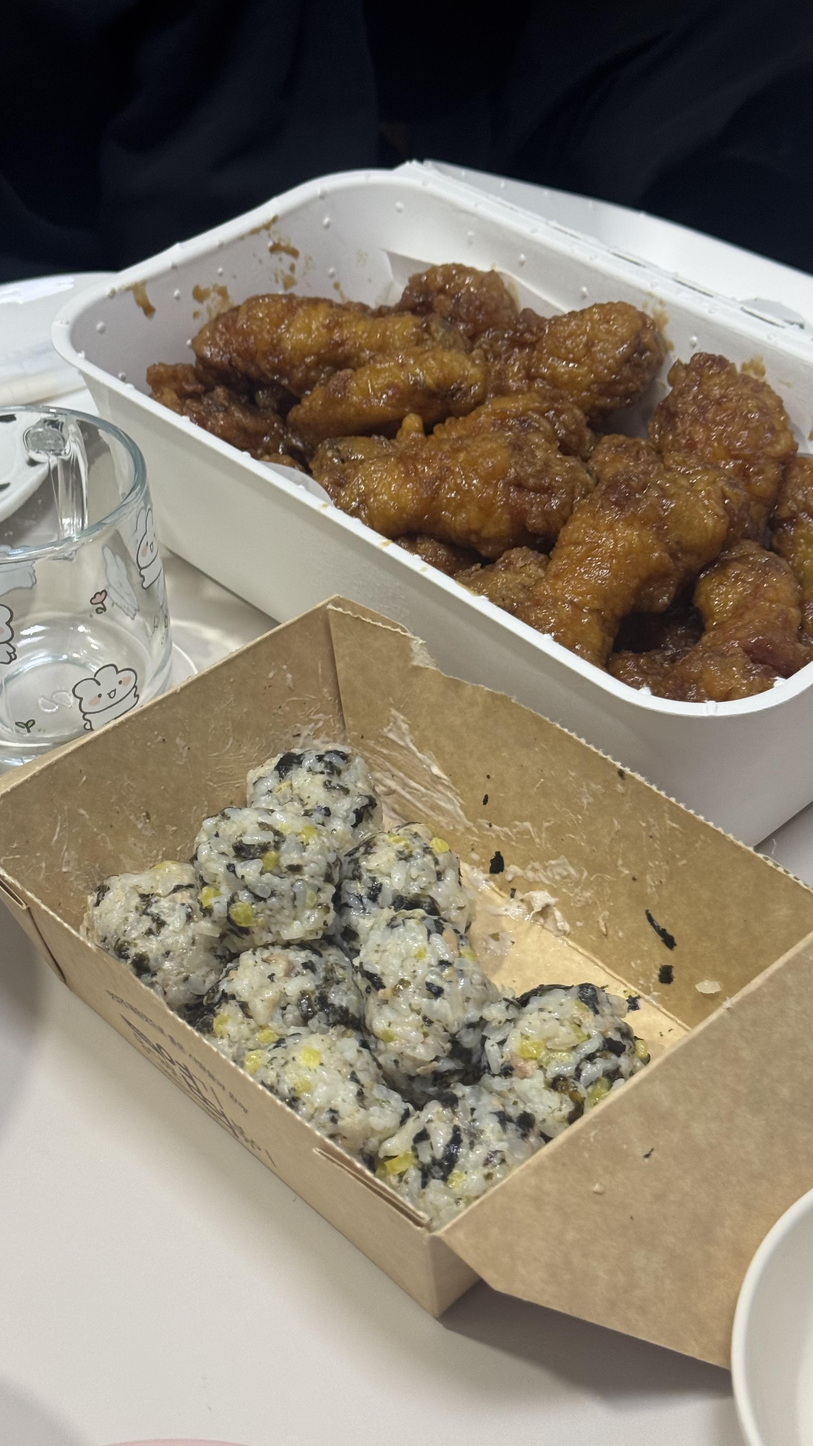Lunch Box: (0, 600, 813, 1365), (53, 162, 813, 844)
cup: (0, 406, 171, 766)
